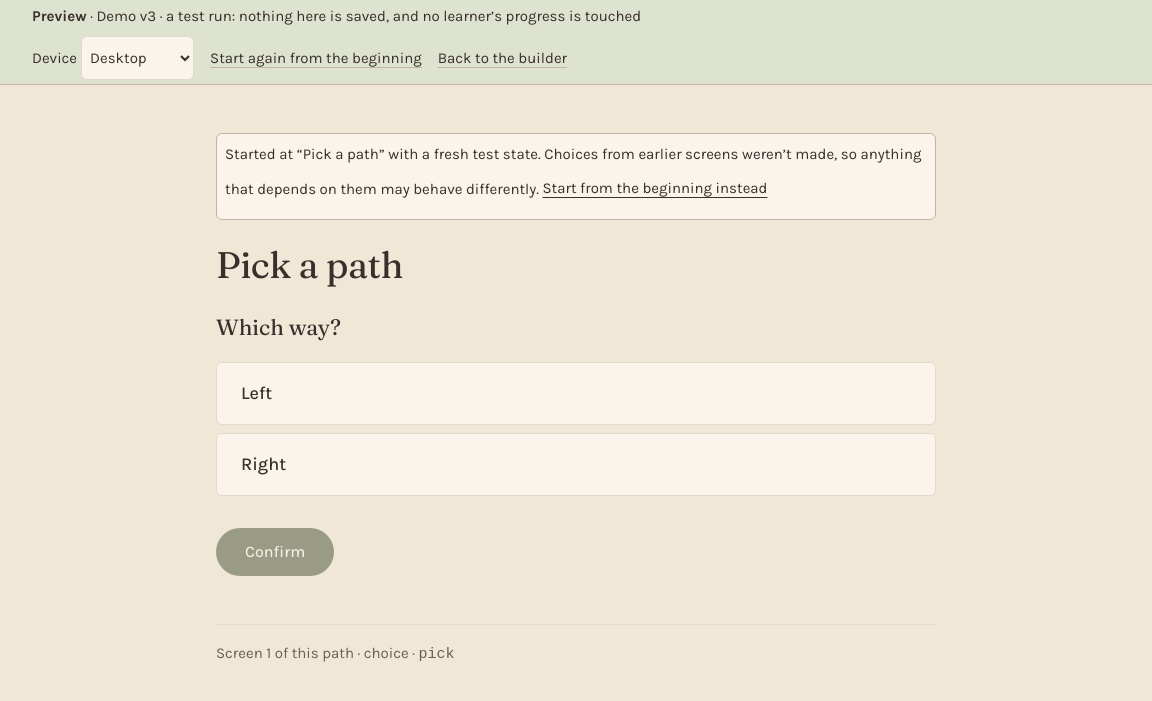
Test: Preview from a chosen screen › restarting from the beginning drops the chosen start
Click the button "Start again from the beginning". click: [316, 58]
box: 210,36 -> 422,80
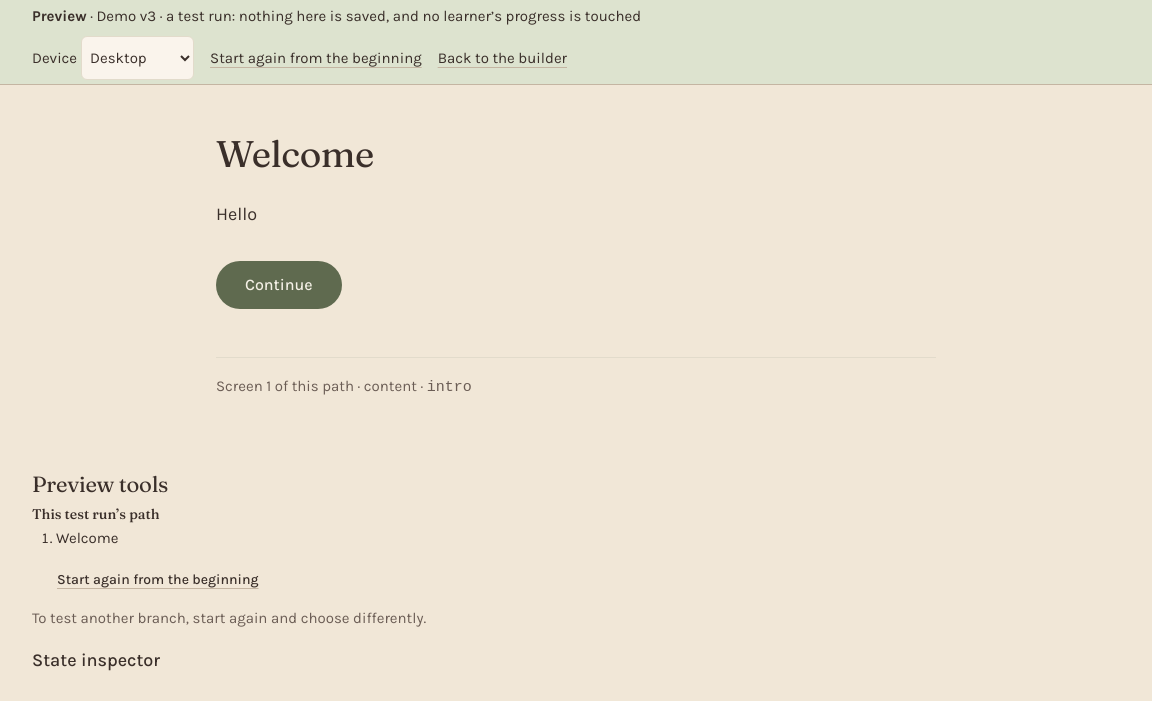
Check: the list items read "Welcome", in this order, box 56,529 -> 118,547
